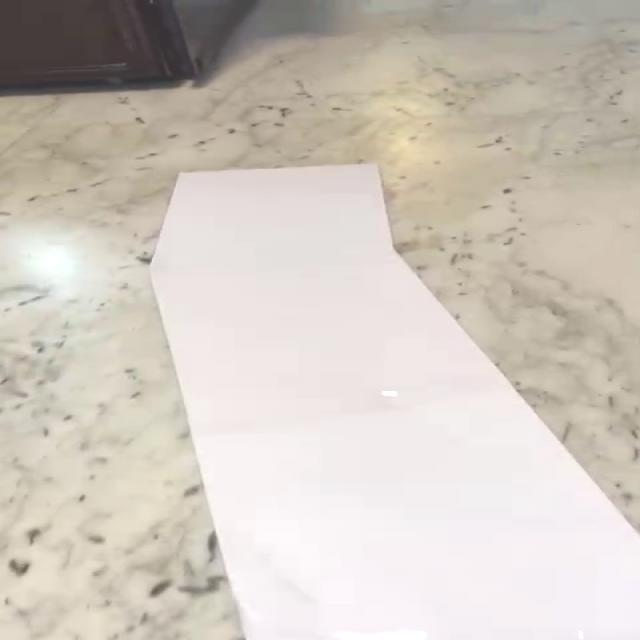road: (152, 165, 638, 640)
